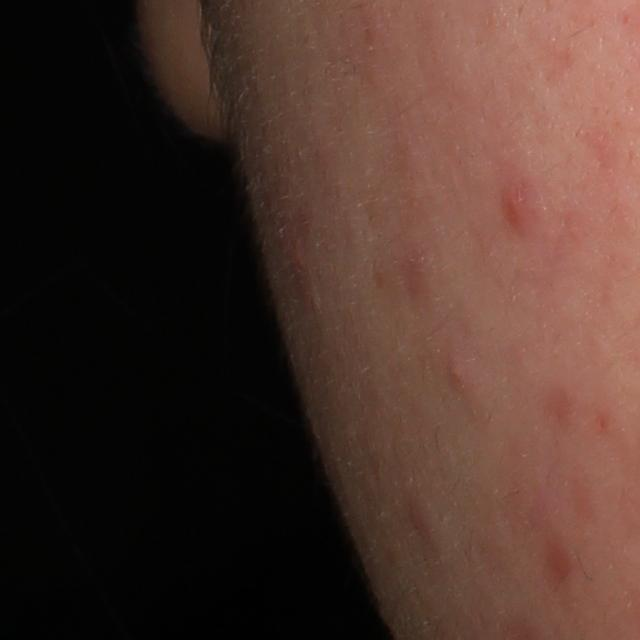papule: (497, 179, 540, 240), (538, 532, 581, 592), (448, 351, 474, 393)
